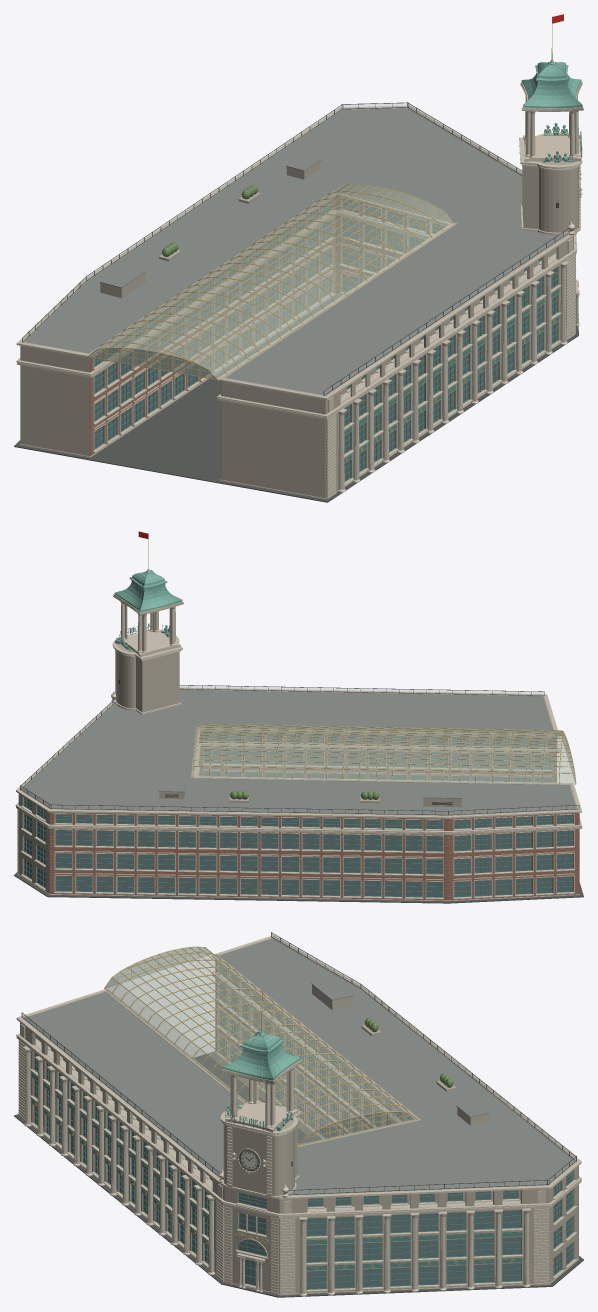
The model's file is hongkou-general-post-office-web.glb.
The picture shows the model from 3 angles, top to bottom: view 1: azimuth 30°, elevation 25°; view 2: azimuth 150°, elevation 25°; view 3: azimuth 270°, elevation 25°; orthographic projection. The views are drawn at different scales.
Parts seen in each view (by area): view 1: 上海邮政总局历史主楼与钟塔; view 2: 上海邮政总局历史主楼与钟塔; view 3: 上海邮政总局历史主楼与钟塔.
Part boxes in pixels (x1,y1,x2,y2): 上海邮政总局历史主楼与钟塔: (14,14,583,502); 上海邮政总局历史主楼与钟塔: (14,531,583,903); 上海邮政总局历史主楼与钟塔: (14,932,583,1297).
Size of the model in its own units: 112 by 57.7 by 102.
